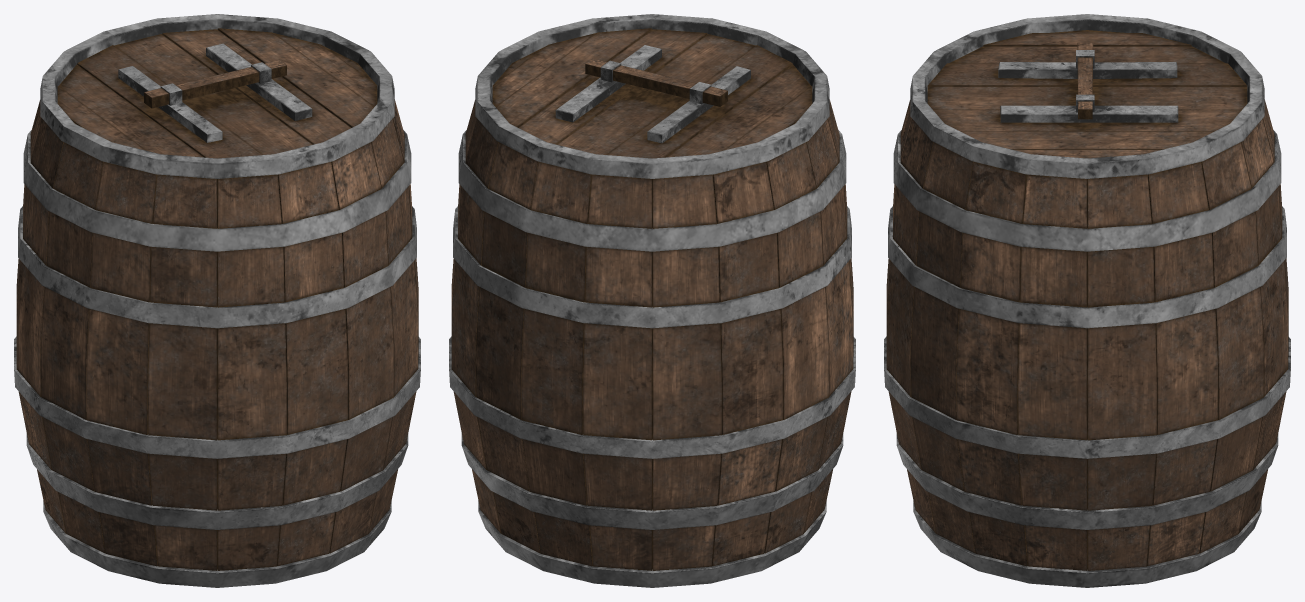
The model's file is barrilMXC.fbx.
3 renders of one model, left to right at view 1: azimuth 30°, elevation 25°; view 2: azimuth 150°, elevation 25°; view 3: azimuth 270°, elevation 25°, orthographic.
Visible parts, largest first — view 1: barril_uv_txt; view 2: barril_uv_txt; view 3: barril_uv_txt.
Part boxes in pixels (x1,y1,x2,y2): barril_uv_txt: (14, 14, 420, 587); barril_uv_txt: (449, 14, 855, 587); barril_uv_txt: (884, 14, 1290, 587).
Size of the model in its own units: 2.26 by 2.66 by 2.23.
